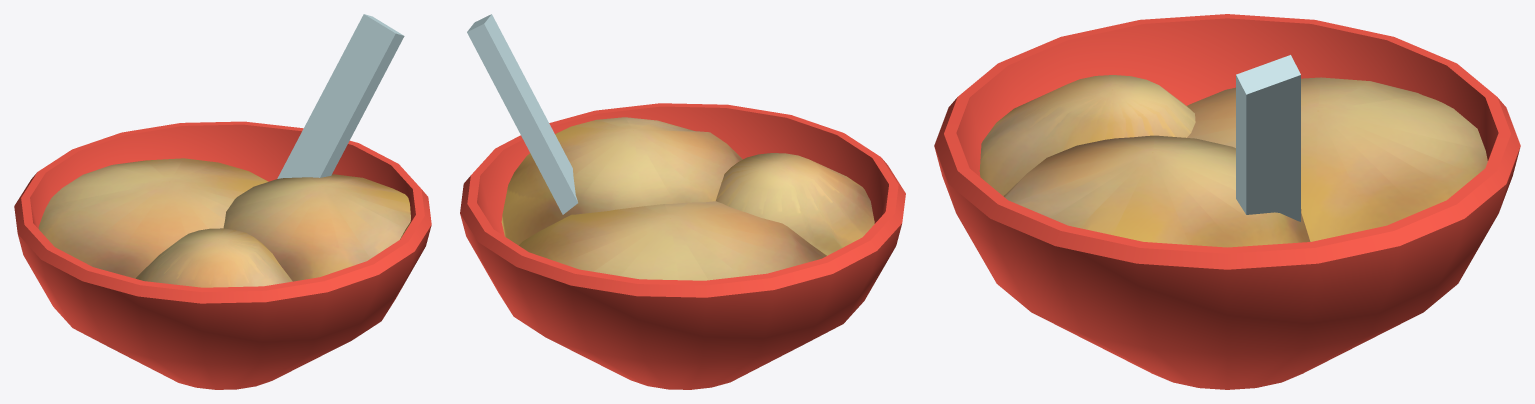
The model's file is oats.fbx.
3 views of the same model, side by side, from view 1: azimuth 30°, elevation 25°; view 2: azimuth 150°, elevation 25°; view 3: azimuth 270°, elevation 25° (orthographic). The views are drawn at different scales.
Parts seen in each view (by area): view 1: polySurface5; view 2: polySurface5; view 3: polySurface5.
Part boxes in pixels (x1,y1,x2,y2): polySurface5: (14,14,431,389); polySurface5: (460,14,905,389); polySurface5: (934,14,1520,389).
Bounding box in the file's own units: 4.01 × 3.12 × 3.94.
